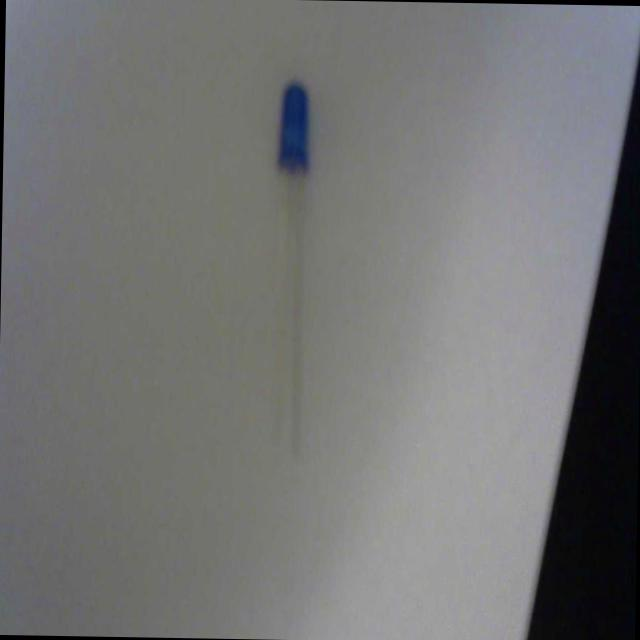blue_led: (277, 81, 310, 174)
